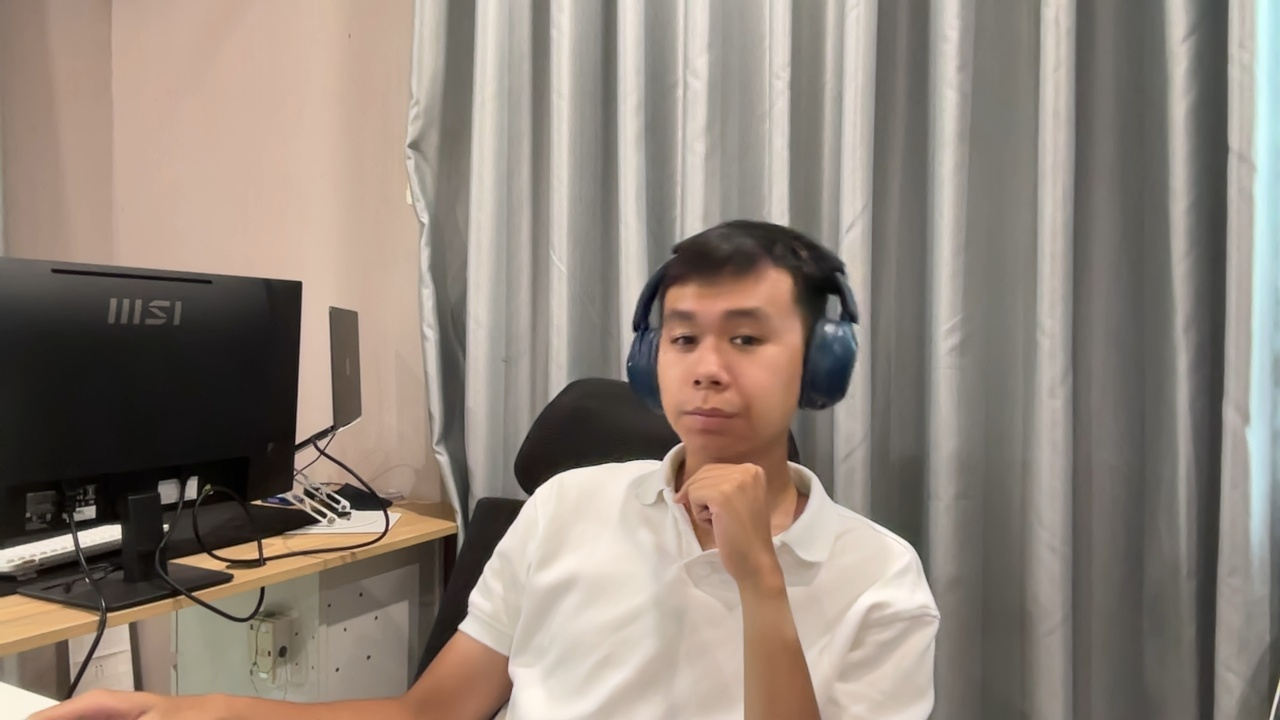over_ear: (624, 221, 862, 418), (625, 219, 862, 416)
